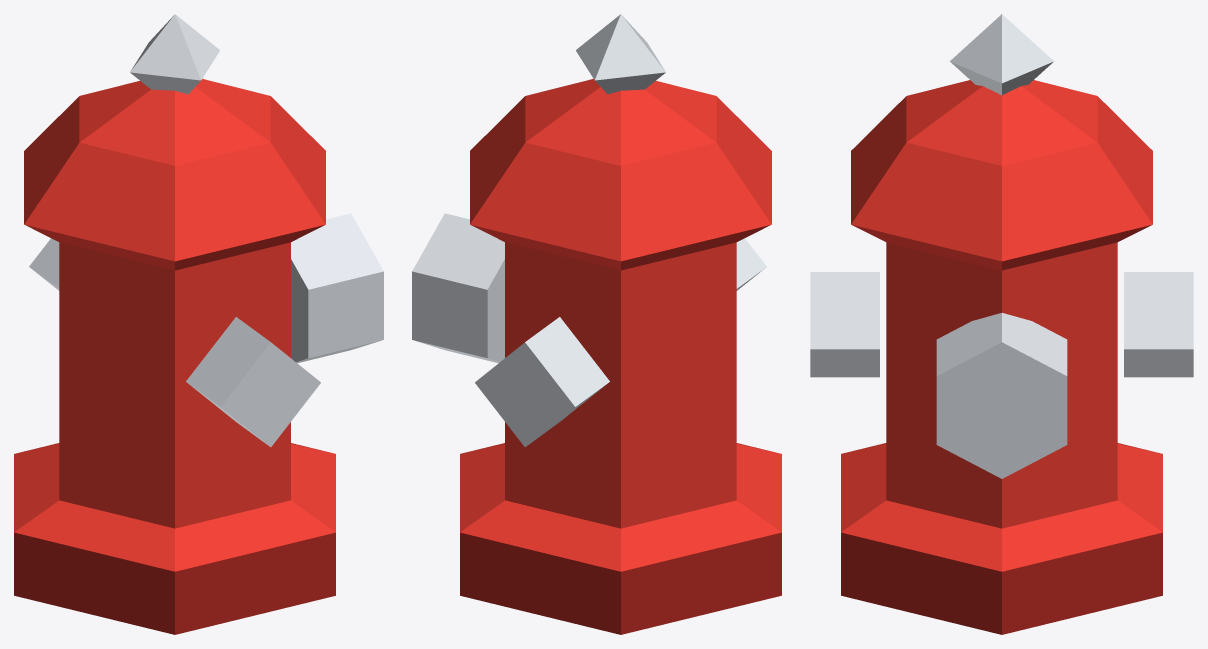
File: hydrant.glb
The picture shows the model from 3 angles, left to right: view 1: azimuth 30°, elevation 25°; view 2: azimuth 150°, elevation 25°; view 3: azimuth 270°, elevation 25°; orthographic projection.
Parts seen in each view (by area): view 1: hydrant; view 2: hydrant; view 3: hydrant.
Part boxes in pixels (left/top/right/bottom): hydrant: left=14, top=14, right=383, bottom=634; hydrant: left=412, top=14, right=781, bottom=634; hydrant: left=810, top=14, right=1193, bottom=634.
Size of the model in its own units: 0.067 by 0.103 by 0.066.
